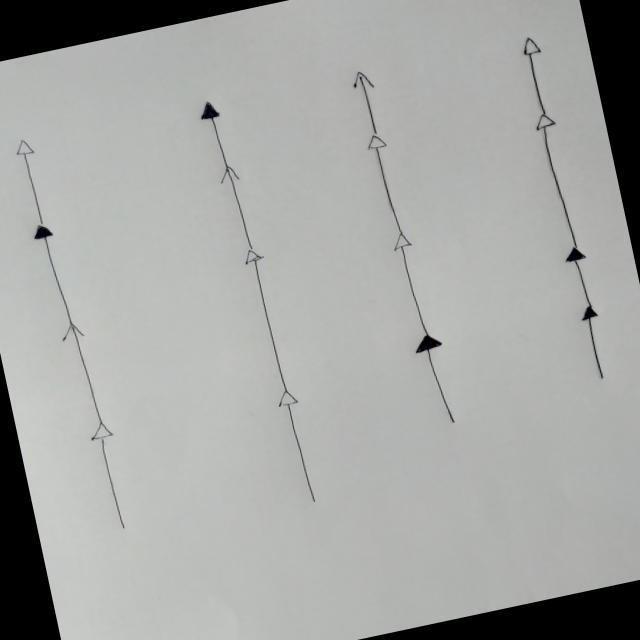arrow_line_up: (241, 246, 295, 394), (530, 111, 584, 251), (274, 388, 323, 506), (409, 330, 464, 430), (87, 421, 135, 533), (58, 321, 107, 427), (30, 222, 78, 328), (388, 230, 434, 338), (364, 132, 410, 238), (214, 163, 257, 251), (12, 136, 50, 228), (518, 34, 556, 116), (194, 98, 234, 170), (348, 68, 388, 138), (579, 306, 612, 382), (562, 244, 599, 310)
